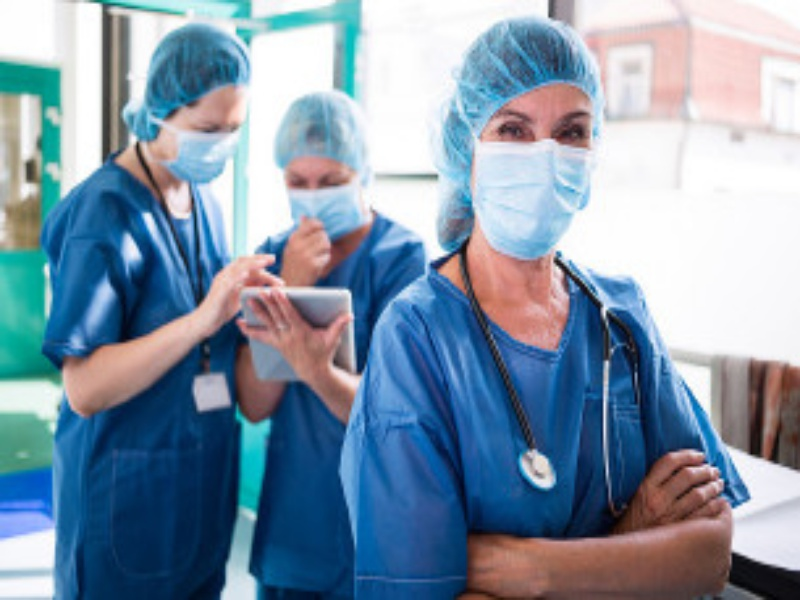mask: (452, 19, 605, 262), (138, 25, 252, 185), (270, 84, 378, 233)
